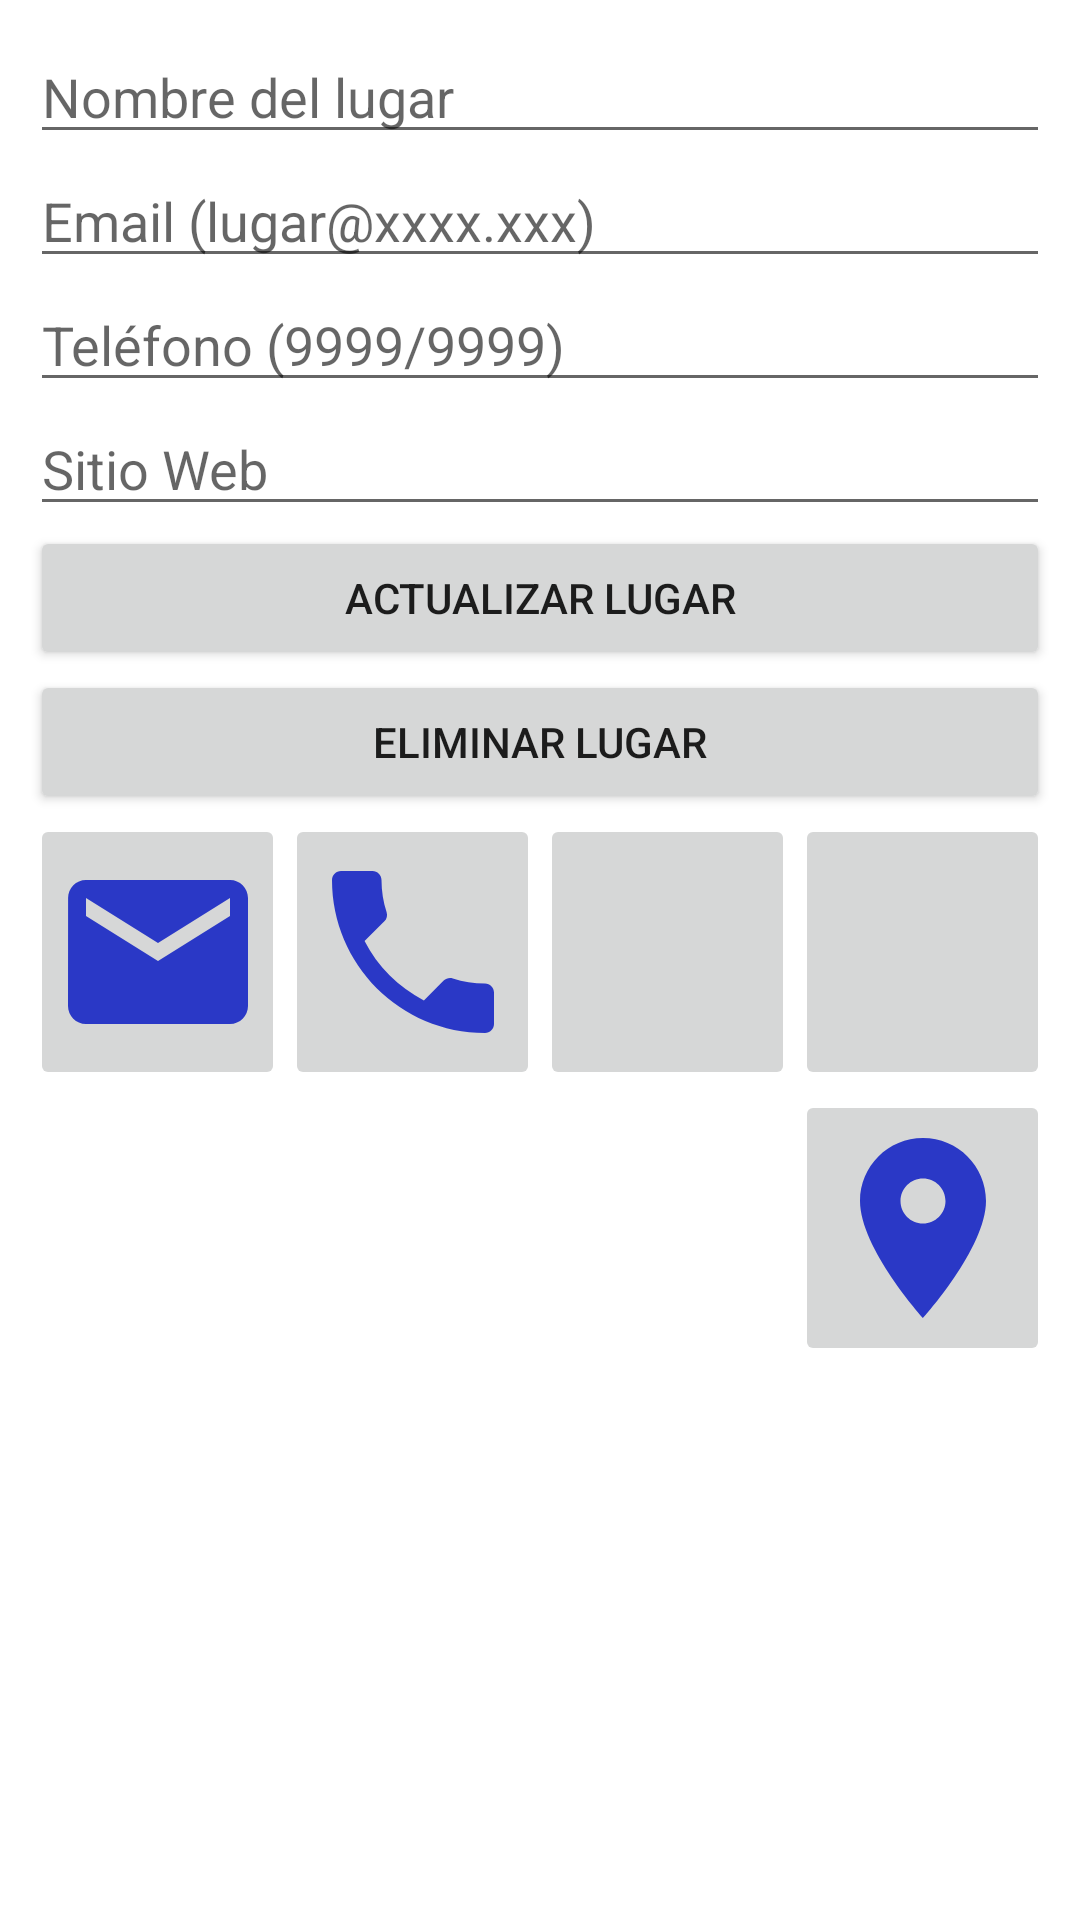

Locate icon controls on the screen. Image size 1080×1920, boxes as (x1, y1, x2, y2).
Enviar correo electrónico: (42, 832, 273, 1072)
Realizar llamada telefónica: (297, 832, 528, 1072)
Ver lugar en mapa: (807, 1108, 1038, 1348)
